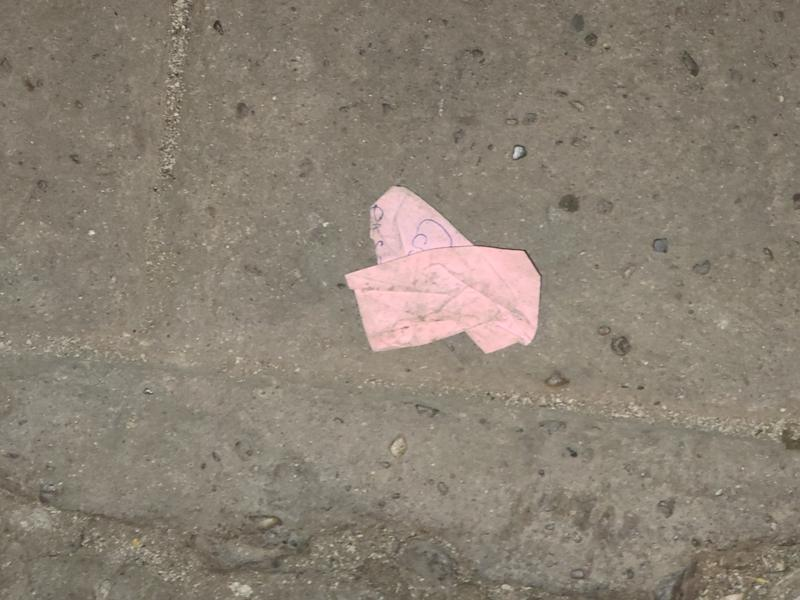papel: (343, 187, 543, 356)
